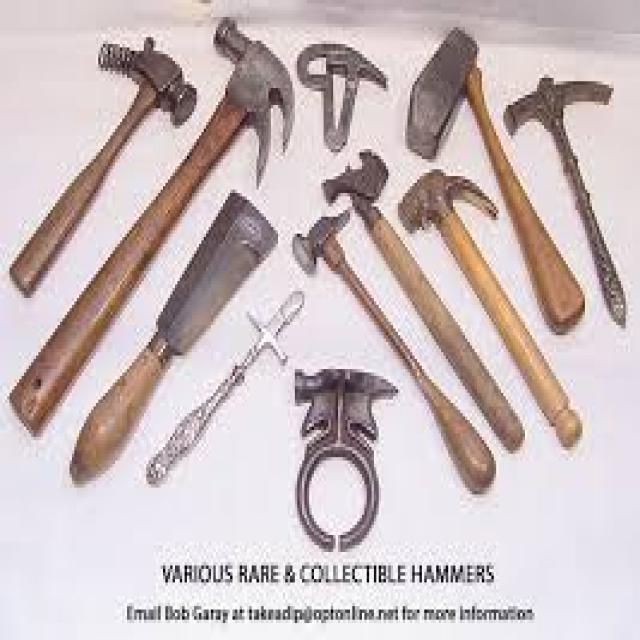Palu: (10, 24, 304, 454), (312, 160, 528, 470), (284, 220, 497, 514), (392, 168, 590, 438), (10, 40, 199, 311), (486, 64, 640, 321)
